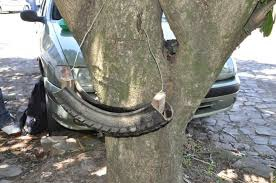tire: (55, 84, 173, 136)
